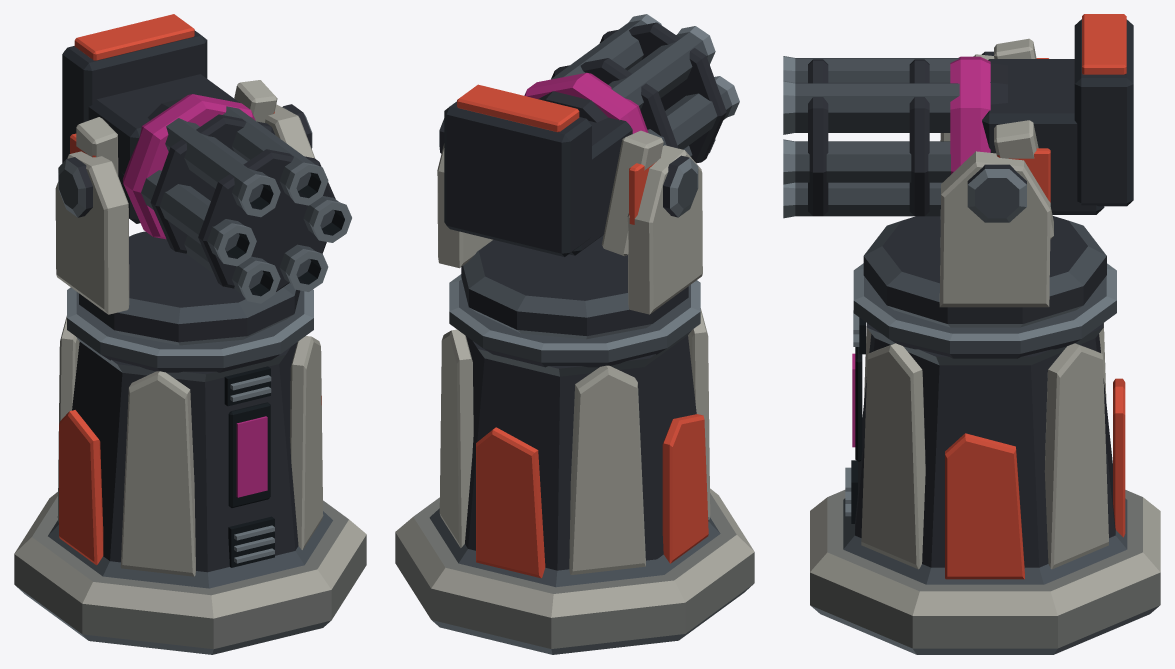
Rendered from lv3_cadence.glb.
The picture shows the model from 3 angles, left to right: view 1: azimuth 30°, elevation 25°; view 2: azimuth 150°, elevation 25°; view 3: azimuth 270°, elevation 25°; orthographic projection. The views are drawn at different scales.
Visible parts, largest first — view 1: Base, Barrel_Recoil, Turret_Yaw, Base_TeamColor, Team_Panels; view 2: Base, Barrel_Recoil, Turret_Yaw, Base_TeamColor, Team_Panels; view 3: Base, Barrel_Recoil, Turret_Yaw, Base_TeamColor, Team_Panels.
Part boxes in pixels (x1,y1,x2,y2): Base: (14, 287, 366, 654); Barrel_Recoil: (62, 30, 351, 303); Turret_Yaw: (55, 104, 315, 345); Base_TeamColor: (59, 396, 321, 565); Team_Panels: (70, 14, 274, 157); Base: (395, 274, 754, 654); Barrel_Recoil: (444, 14, 739, 256); Turret_Yaw: (437, 118, 702, 339); Base_TeamColor: (476, 414, 708, 578); Team_Panels: (457, 84, 655, 224); Base: (810, 263, 1160, 654); Barrel_Recoil: (783, 19, 1133, 239); Turret_Yaw: (863, 51, 1106, 327); Base_TeamColor: (945, 378, 1125, 579); Team_Panels: (997, 14, 1126, 202).
Size of the model in its own units: 1.75 by 3 by 1.88.
